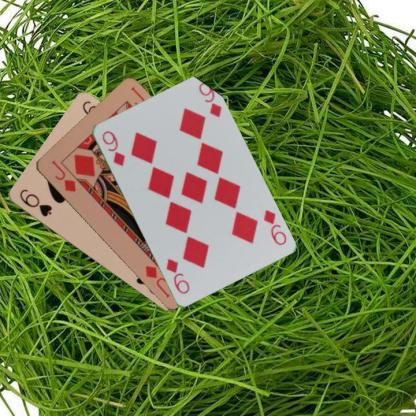6s: (16, 186, 53, 218)
9d: (260, 207, 288, 247), (99, 128, 126, 168)
Jd: (48, 157, 77, 194)
